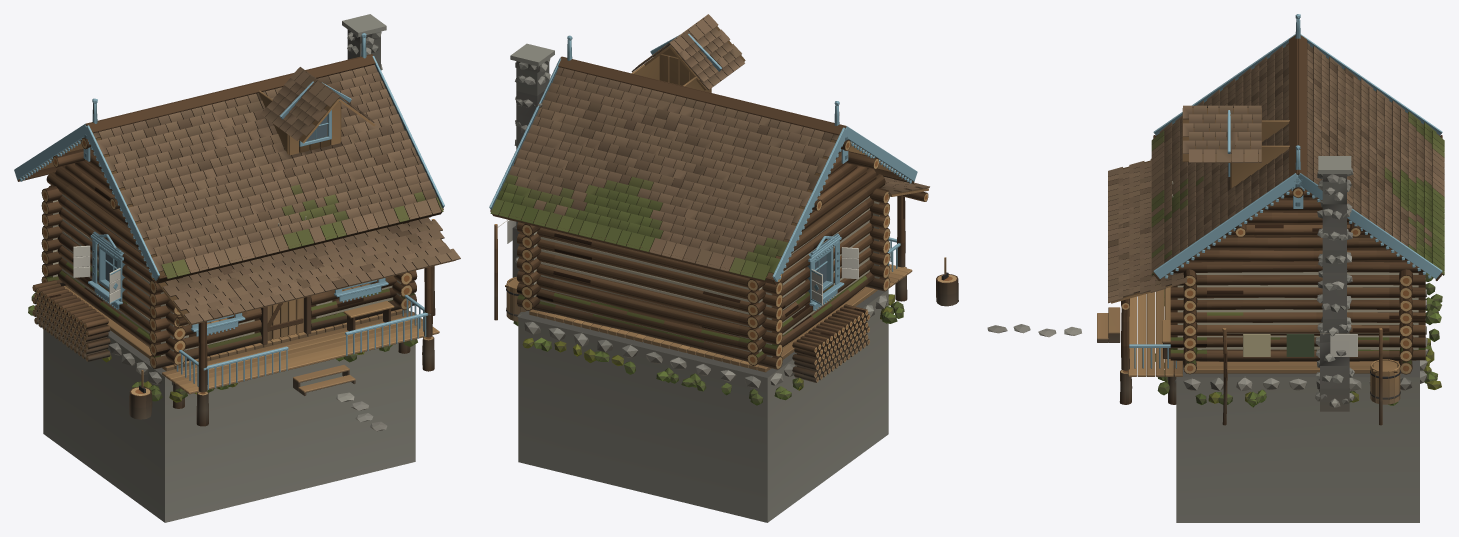
The picture shows the model from 3 angles, left to right: view 1: azimuth 30°, elevation 25°; view 2: azimuth 150°, elevation 25°; view 3: azimuth 270°, elevation 25°; orthographic projection.
Visible parts, largest first — view 1: stone-plinth-001, shingle-003, shingle-002, shingle-007, shingle-001, plank-014, wood-pile-004, dark-003, shingle-008, plank-barge-002, plank-001, plank-trim-011 (+32 smaller); view 2: stone-plinth-001, shingle-006, shingle-005, shingle-004, wood-pile-004, stone-found-003, dark-003, log-008, log-031, log-039, log-015, shingle-008 (+29 smaller); view 3: stone-plinth-001, shingle-006, shingle-007, shingle-005, shingle-003, shingle-009, plank-barge-003, shingle-004, shingle-001, shingle-002, plank-014, wood-line-006 (+34 smaller).
Boxes of the visible parts, box(x1,y1,x2,y2) form: stone-plinth-001: box(43, 283, 415, 522); shingle-003: box(136, 155, 443, 279); shingle-002: box(112, 105, 417, 226); shingle-007: box(153, 217, 460, 325); shingle-001: box(93, 64, 393, 177); plank-014: box(162, 312, 439, 394); wood-pile-004: box(32, 280, 110, 361); dark-003: box(85, 54, 375, 133); shingle-008: box(260, 67, 338, 143); plank-barge-002: box(14, 123, 159, 280); plank-001: box(64, 283, 404, 371); plank-trim-011: box(88, 231, 125, 309); stone-plinth-001: box(518, 289, 888, 522); shingle-006: box(490, 158, 795, 280); shingle-005: box(514, 108, 819, 228); shingle-004: box(540, 67, 838, 178); wood-pile-004: box(792, 304, 870, 382); stone-found-003: box(522, 322, 763, 405); dark-003: box(558, 56, 846, 135); log-008: box(517, 282, 782, 357); log-031: box(517, 244, 782, 319); log-039: box(517, 232, 782, 307); log-015: box(517, 269, 782, 344); shingle-008: box(669, 15, 745, 90); stone-plinth-001: box(1176, 360, 1419, 522); shingle-006: box(1392, 101, 1444, 275); shingle-007: box(1108, 158, 1186, 303); shingle-005: box(1344, 68, 1392, 235); shingle-003: box(1151, 100, 1203, 275); shingle-009: box(1182, 105, 1261, 162); plank-barge-003: box(1153, 173, 1442, 278); shingle-004: box(1298, 43, 1344, 184); shingle-001: box(1251, 43, 1297, 202); shingle-002: box(1203, 68, 1251, 235); plank-014: box(1128, 287, 1182, 376); wood-line-006: box(1222, 328, 1382, 425).
Bounding box in the file's own units: 8.74 × 9.18 × 9.95.
